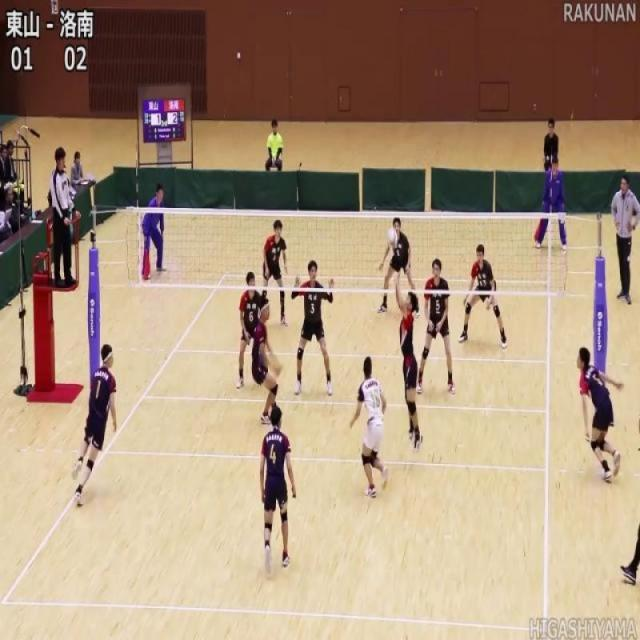volleyball: (386, 226, 398, 250)
